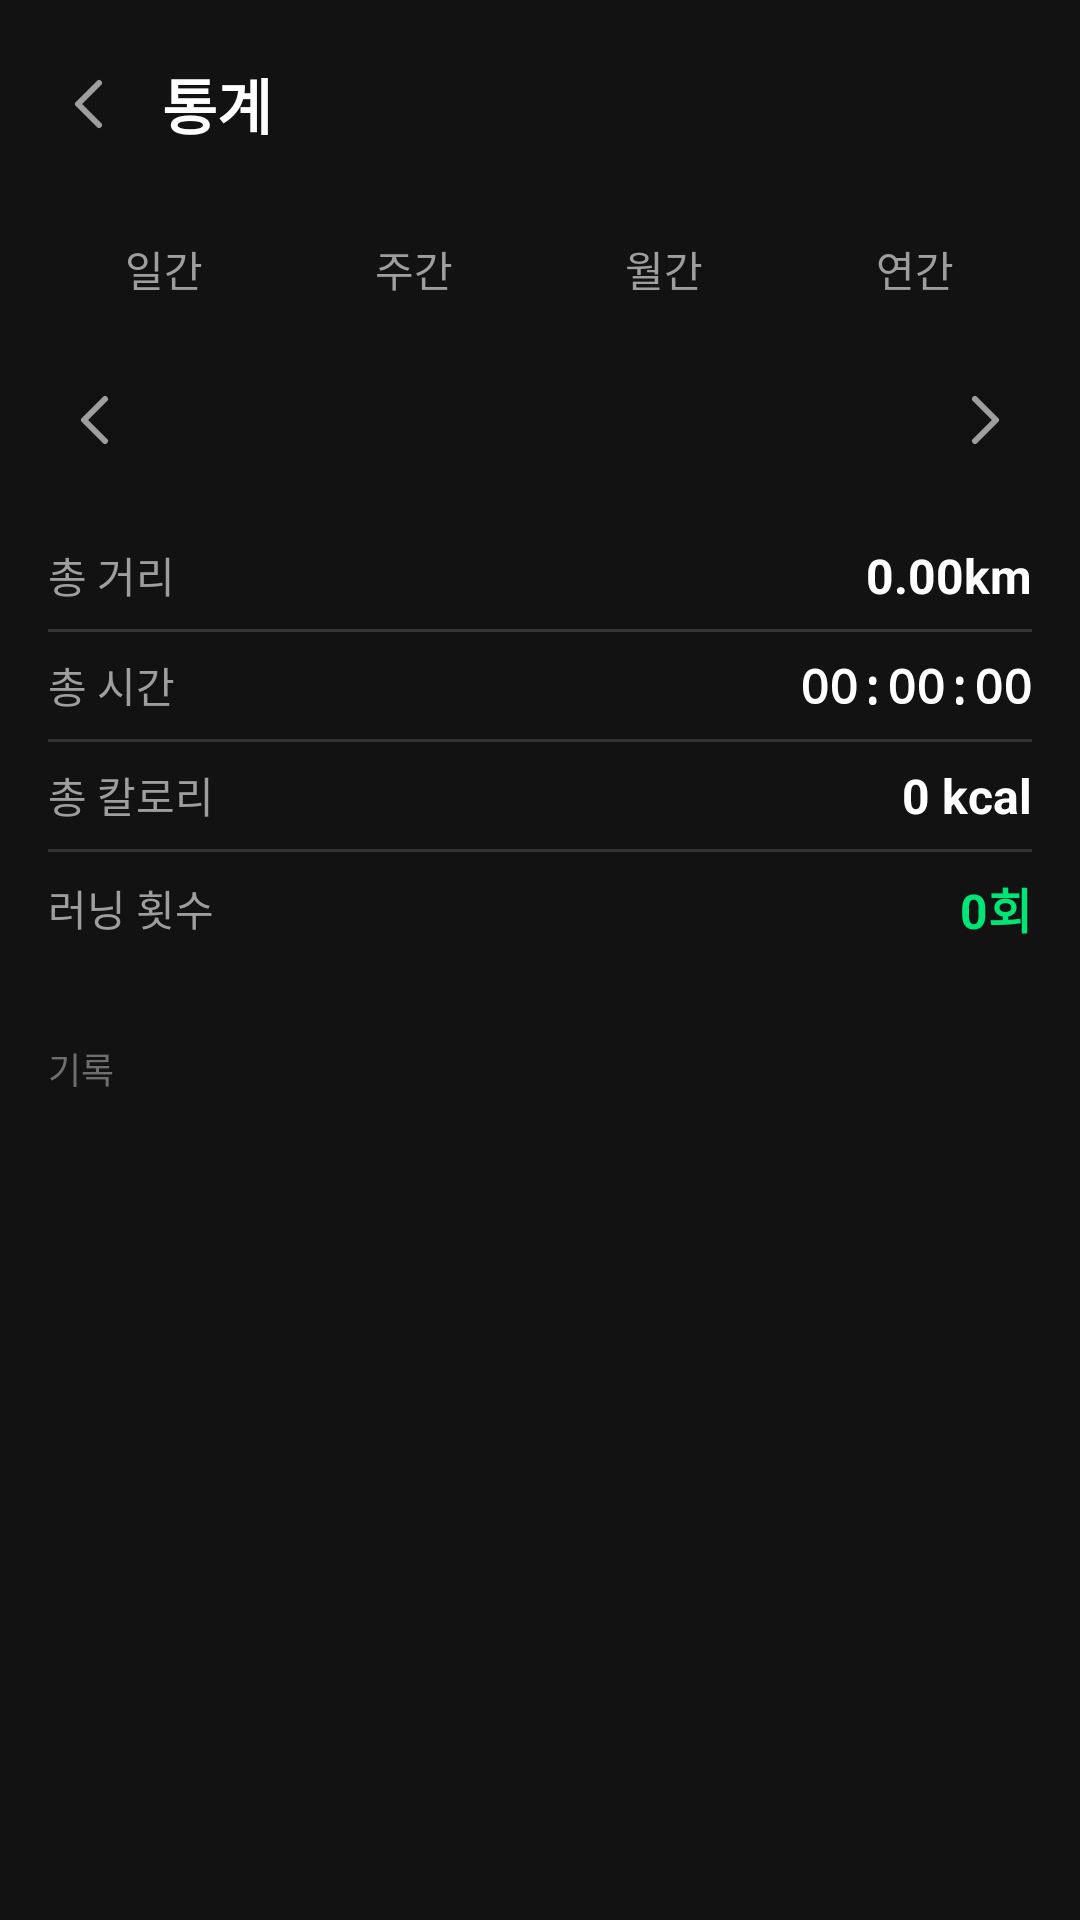

Named icons in this screenshot (1080×1920) and their centers, (x,y):
다음 기간: (985,420)
이전 기간: (94,420)
